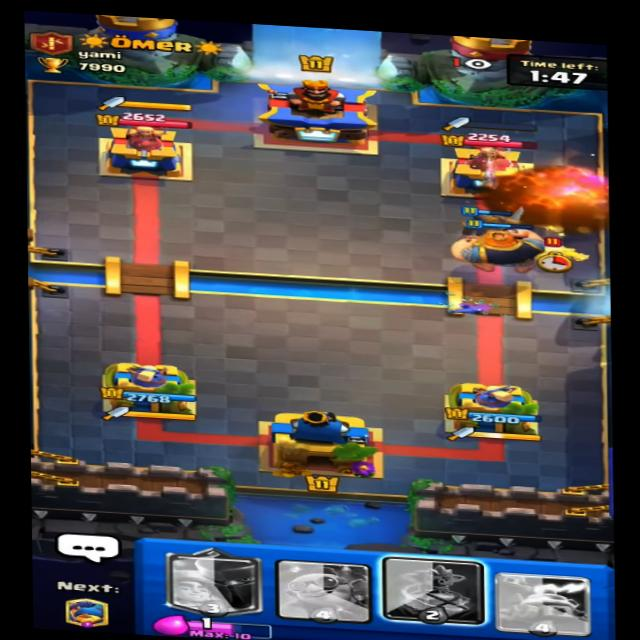Minipekka: (529, 231, 597, 269)
